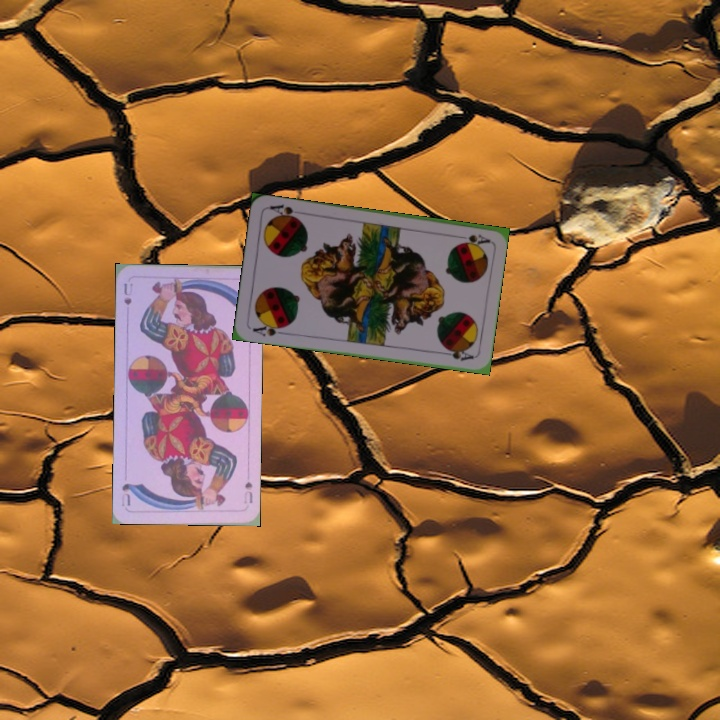SA: (249, 319, 289, 339), (451, 230, 492, 247)
SU: (240, 477, 255, 506), (120, 279, 135, 307)
